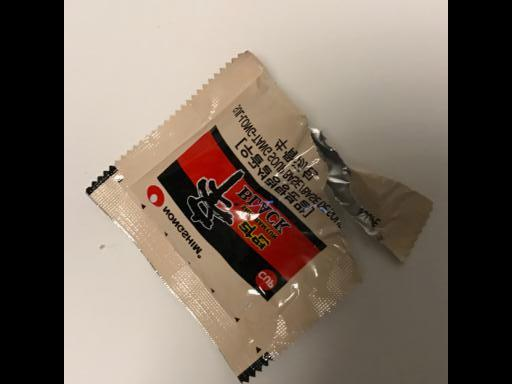trash: (83, 49, 434, 380)
